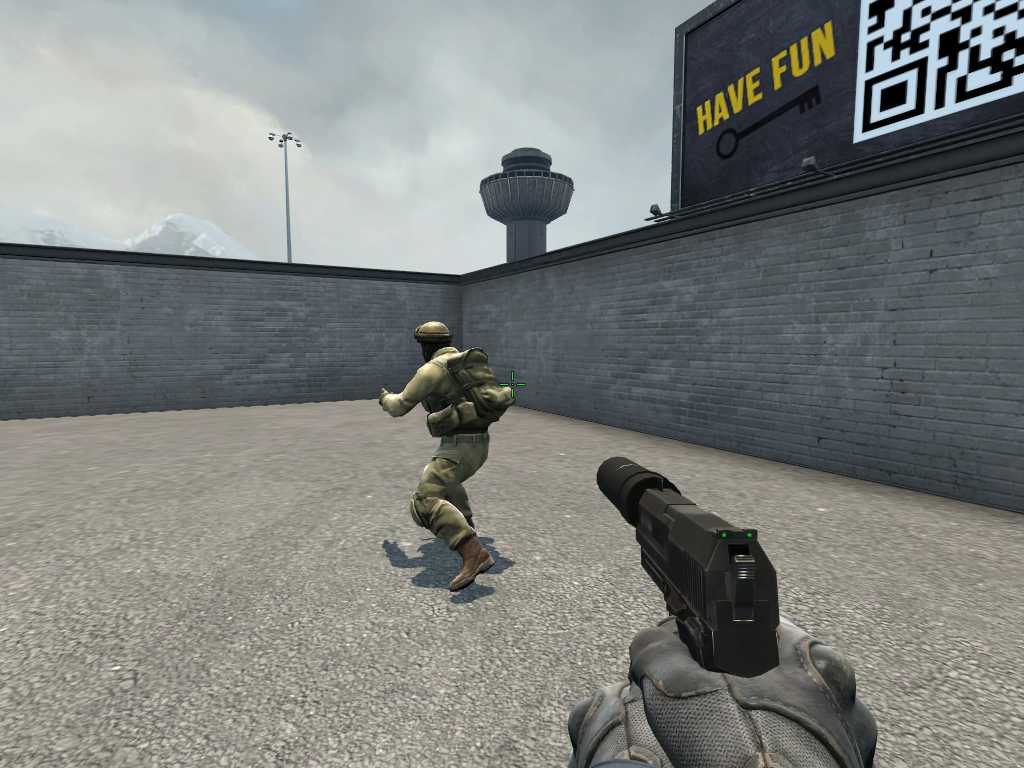ct head: (412, 316, 452, 368)
